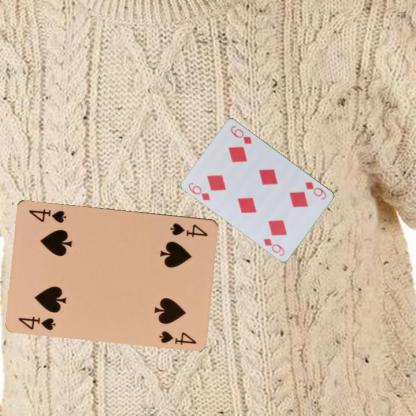4s: (168, 220, 209, 238), (16, 313, 57, 331)
6d: (186, 180, 212, 202), (302, 179, 327, 201)
